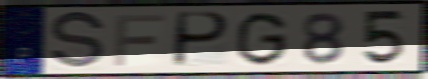5: (360, 8, 408, 68)
8: (300, 11, 346, 66)
F: (111, 12, 167, 68)
G: (234, 10, 290, 68)
P: (170, 10, 232, 69)
S: (48, 9, 108, 72)
